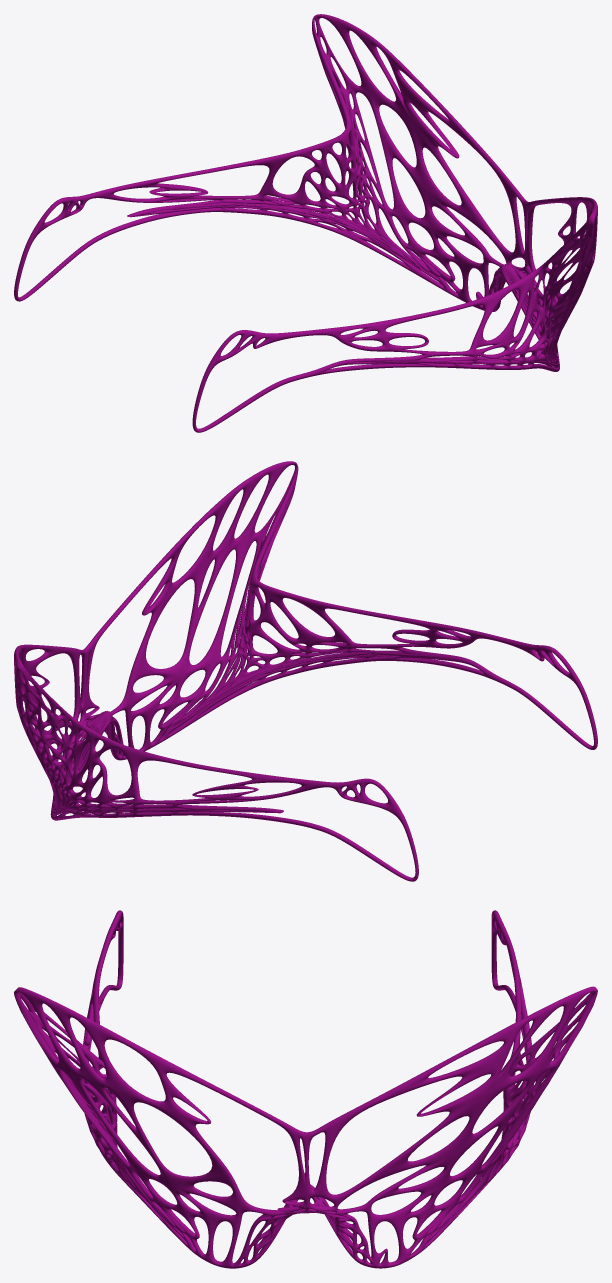
Rendered from butterflyglasses.glb.
3 views of the same model, one above another, from view 1: azimuth 30°, elevation 25°; view 2: azimuth 150°, elevation 25°; view 3: azimuth 270°, elevation 25° (orthographic). The views are drawn at different scales.
Visible parts, largest first — view 1: Object_2, Object_5, Object_3, Object_4, Object_6; view 2: Object_2, Object_3, Object_4, Object_5, Object_6; view 3: Object_2, Object_4, Object_5, Object_3, Object_6.
Boxes of the visible parts, left/top/right/bottom form: Object_2: left=14, top=14, right=597, bottom=432; Object_5: left=107, top=35, right=565, bottom=369; Object_3: left=116, top=96, right=597, bottom=426; Object_4: left=40, top=47, right=591, bottom=364; Object_6: left=129, top=53, right=589, bottom=372; Object_2: left=14, top=461, right=597, bottom=881; Object_3: left=24, top=467, right=594, bottom=880; Object_4: left=34, top=485, right=416, bottom=881; Object_5: left=17, top=628, right=463, bottom=817; Object_6: left=20, top=572, right=568, bottom=818; Object_2: left=14, top=910, right=597, bottom=1268; Object_4: left=54, top=913, right=530, bottom=1266; Object_5: left=84, top=952, right=597, bottom=1266; Object_3: left=23, top=913, right=548, bottom=1247; Object_6: left=20, top=924, right=581, bottom=1266.
Size of the model in its own units: 6.41 by 3.42 by 7.25.
